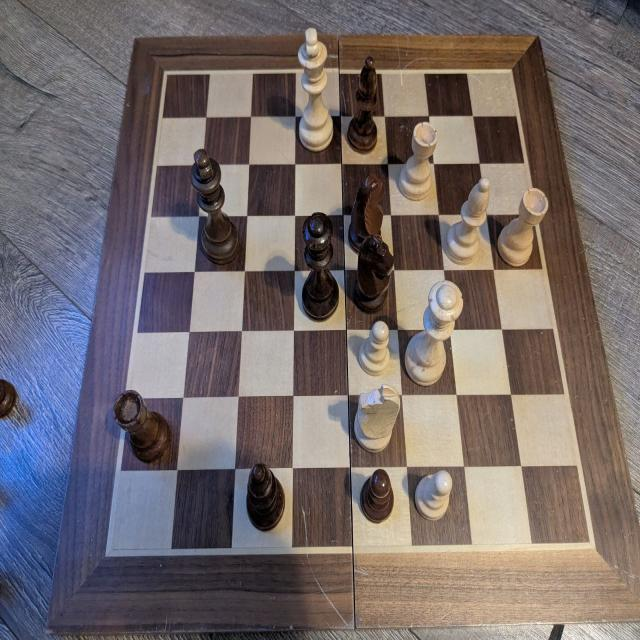black_bishop: (347, 57, 379, 153), (246, 464, 286, 532)
black_king: (189, 146, 240, 263)
black_knight: (354, 236, 396, 315), (348, 172, 384, 250)
black_pawn: (359, 469, 395, 522)
black_queen: (302, 212, 341, 320)
black_rook: (114, 389, 172, 464)
white_bishop: (445, 178, 491, 264)
white_king: (297, 26, 334, 150)
white_knight: (353, 378, 400, 452)
white_pawn: (414, 470, 453, 521), (359, 319, 389, 375)
white_queen: (403, 279, 463, 384)
white_rook: (497, 186, 550, 268), (398, 120, 436, 200)
